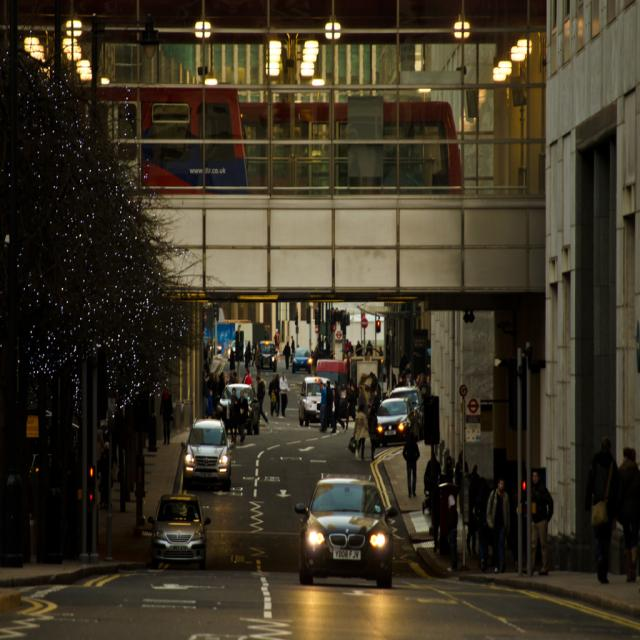car: (292, 478, 395, 582), (147, 496, 211, 557), (180, 416, 229, 486)
